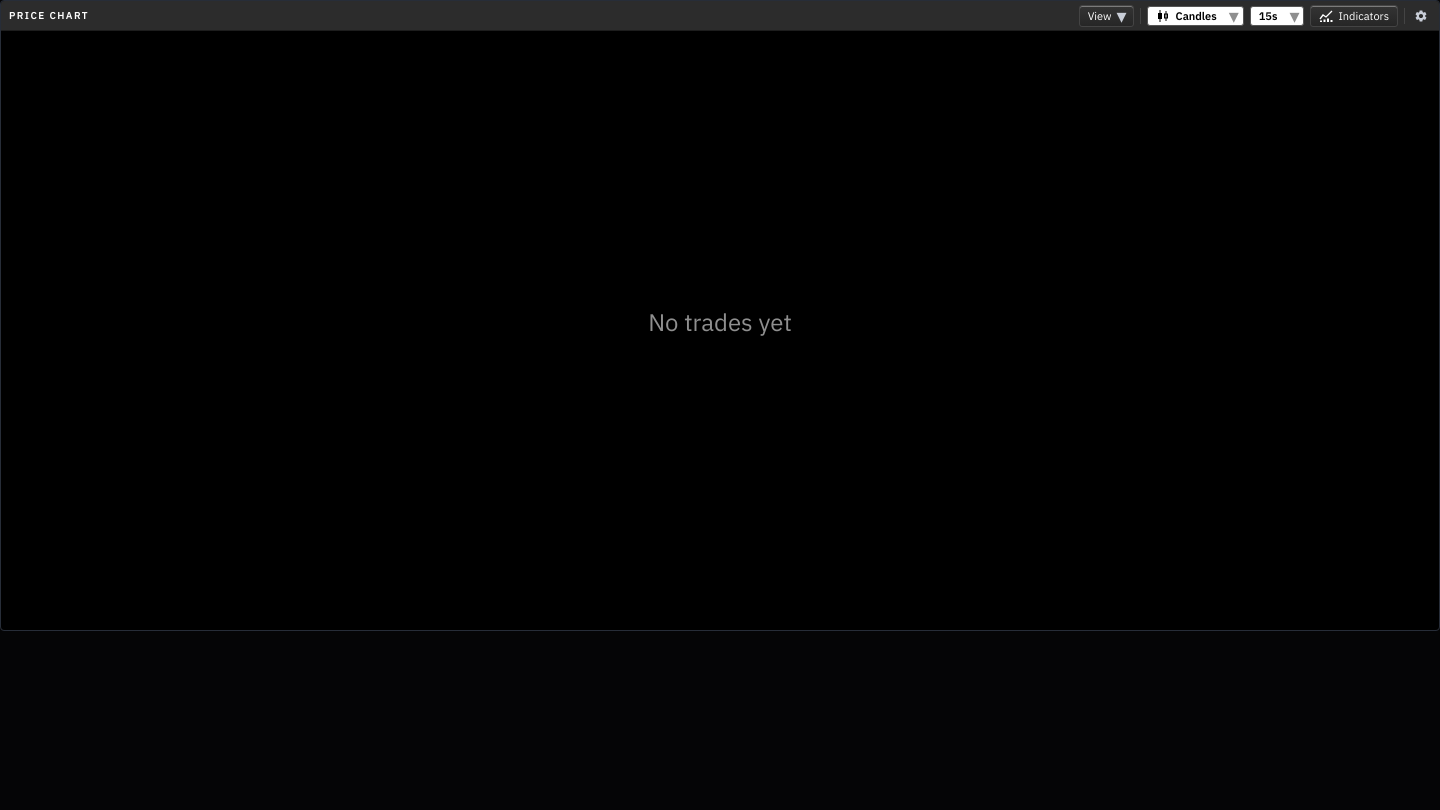
page band › choosing Line persists, hides the bar size and agrees with the gear popup
The image size is (1440, 810).
Step 1. Click the button with test id "pc-band-type-trigger" → click(1195, 16), box [1147,6,1244,26]
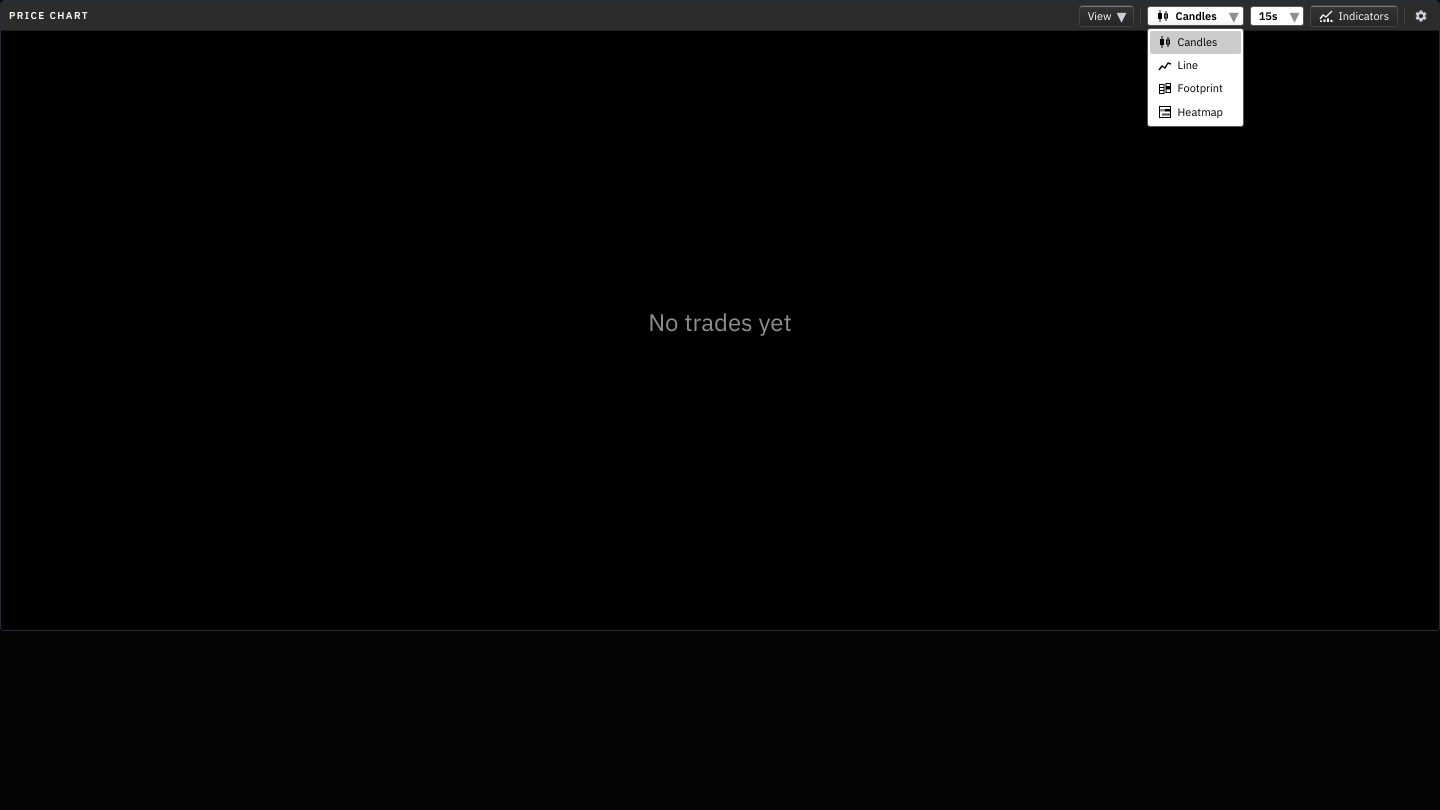
Step 2. Press the mouse on the option with test id "pc-band-type-opt-line" → (1178, 65), box [1158,58,1198,73]
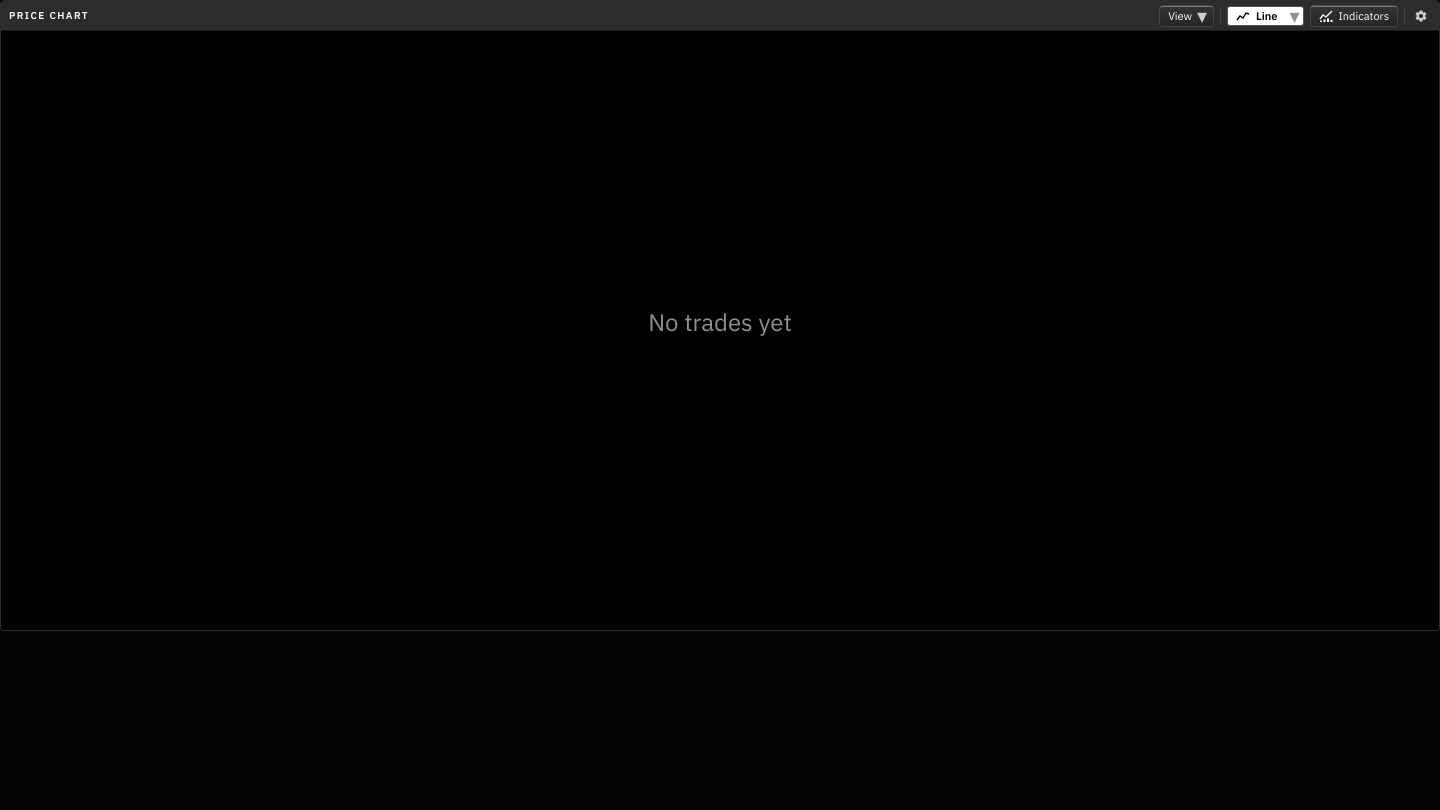
Expected: the button with test id "pc-band-size-trigger" is gone
Expected: the button with test id "pc-band-type-trigger" reads "Line", [1227,6,1304,26]
Step 3. Click the button with test id "pc-settings-gear" → click(1421, 16), box [1411,6,1431,26]
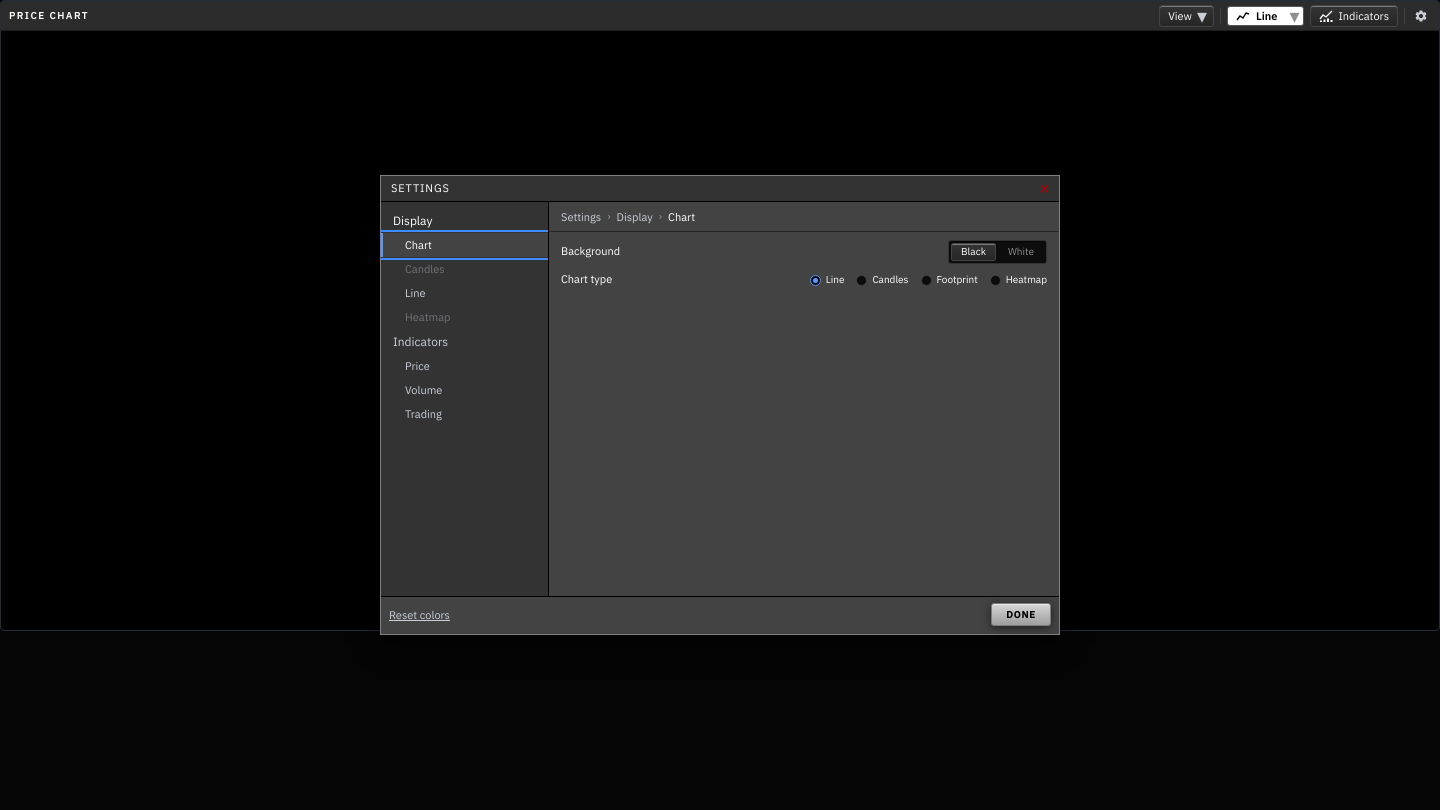
Expected: the radio button with test id "pc-type-line" is checked, [810,274,821,286]
